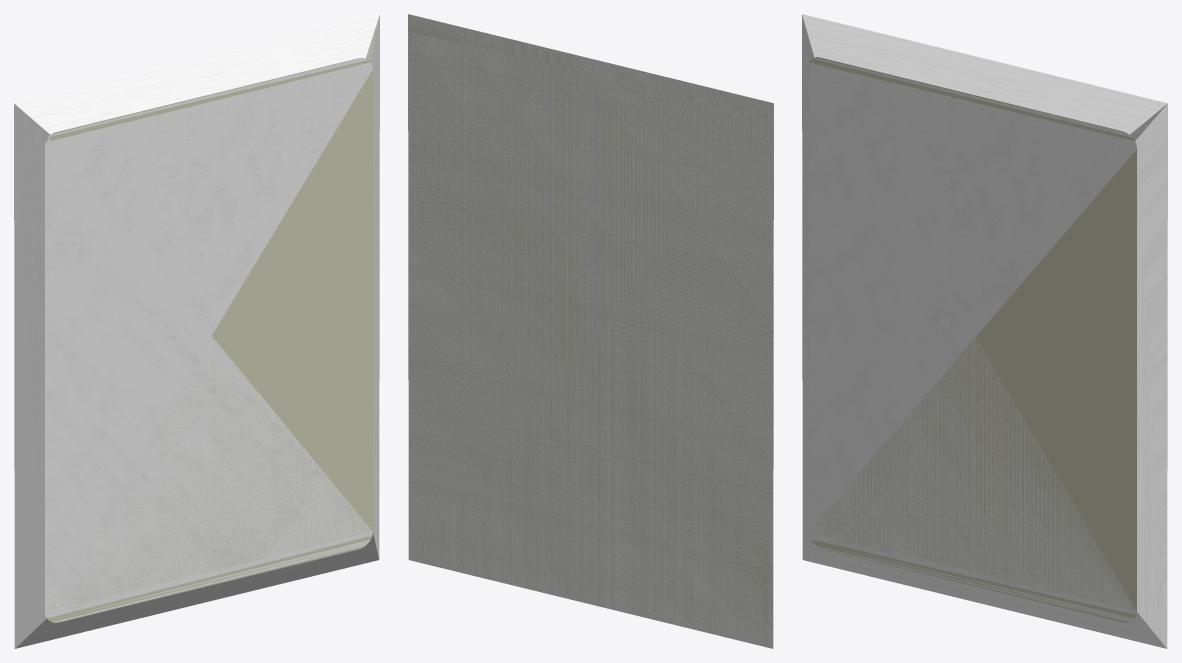
The model's file is original-4-back.obj.
3 views of the same model, side by side, from view 1: azimuth 30°, elevation 25°; view 2: azimuth 150°, elevation 25°; view 3: azimuth 330°, elevation 25° (orthographic).
Parts seen in each view (by area): view 1: mesh6/mesh6-geometry#mesh6-geometry.003; view 2: mesh6/mesh6-geometry#mesh6-geometry.003; view 3: mesh6/mesh6-geometry#mesh6-geometry.003.
Part boxes in pixels (x1,y1,x2,y2): mesh6/mesh6-geometry#mesh6-geometry.003: (14,14,379,648); mesh6/mesh6-geometry#mesh6-geometry.003: (408,14,773,648); mesh6/mesh6-geometry#mesh6-geometry.003: (802,14,1167,648).
Bounding box in the file's own units: 0.9653 × 1.38 × 0.0548.
Materials: 2 (1 with a texture image).
